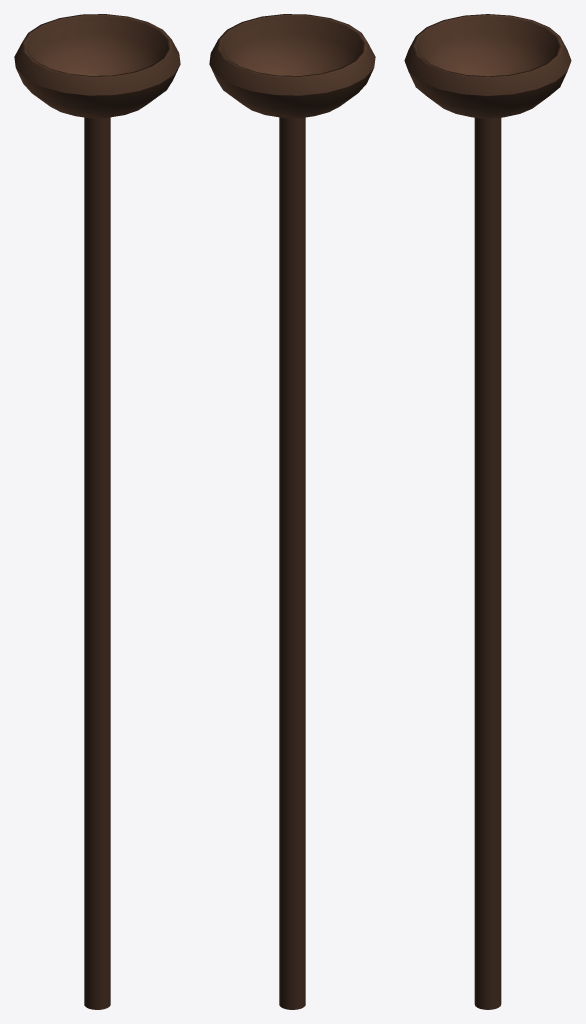
Rendered from LightPillar.obj.
The picture shows the model from 3 angles, left to right: view 1: azimuth 30°, elevation 25°; view 2: azimuth 150°, elevation 25°; view 3: azimuth 270°, elevation 25°; orthographic projection.
Visible parts, largest first — view 1: LightPillar; view 2: LightPillar; view 3: LightPillar.
Part boxes in pixels (bbox=[...]): LightPillar: bbox=[14, 14, 180, 1009]; LightPillar: bbox=[209, 14, 375, 1009]; LightPillar: bbox=[404, 14, 571, 1009].
Size of the model in its own units: 0.3988 by 2.52 by 0.3988.
